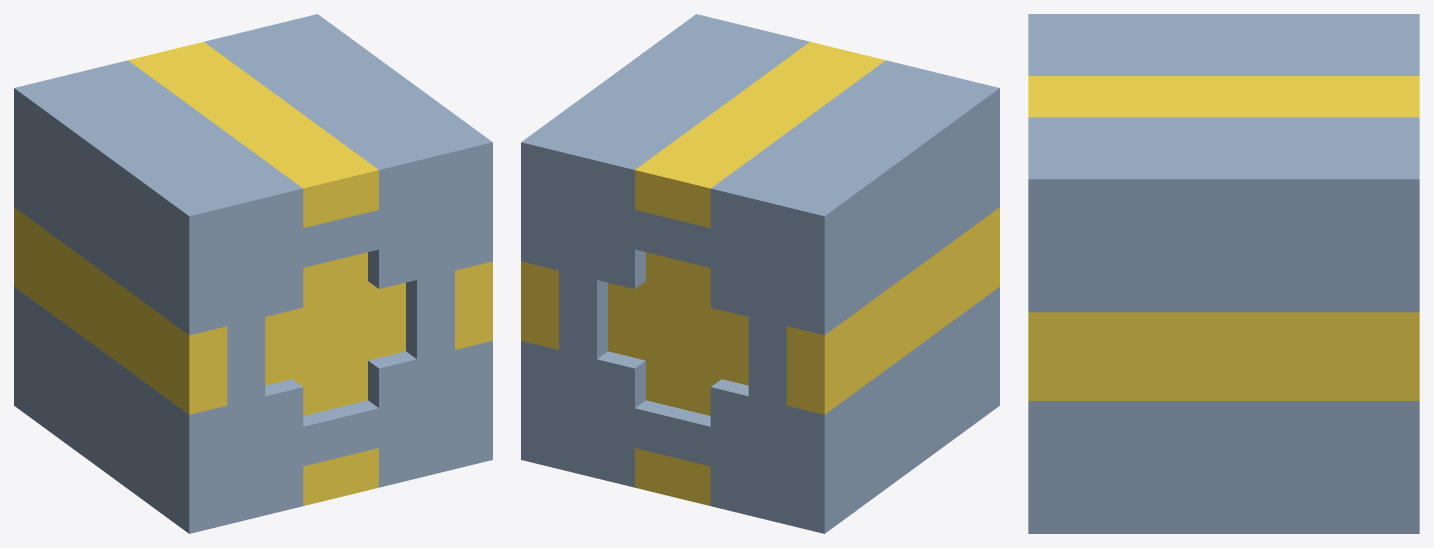
Rendered from gold-block.glb.
3 views of the same model, side by side, from view 1: azimuth 30°, elevation 25°; view 2: azimuth 150°, elevation 25°; view 3: azimuth 270°, elevation 25° (orthographic). The views are drawn at different scales.
Parts seen in each view (by area): view 1: generated(Clone); view 2: generated(Clone); view 3: generated(Clone).
Boxes of the visible parts, x1,y1,x2,y2 form: generated(Clone): (14, 14, 492, 533); generated(Clone): (521, 14, 999, 533); generated(Clone): (1028, 14, 1419, 533).
Size of the model in its own units: 8 by 8 by 8.
Materials: 1 (1 with a texture image).
